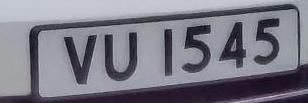1: (150, 21, 183, 81)
4: (215, 13, 254, 77)
5: (177, 18, 215, 80), (248, 13, 285, 71)
U: (100, 27, 145, 85)
V: (58, 30, 103, 89)
